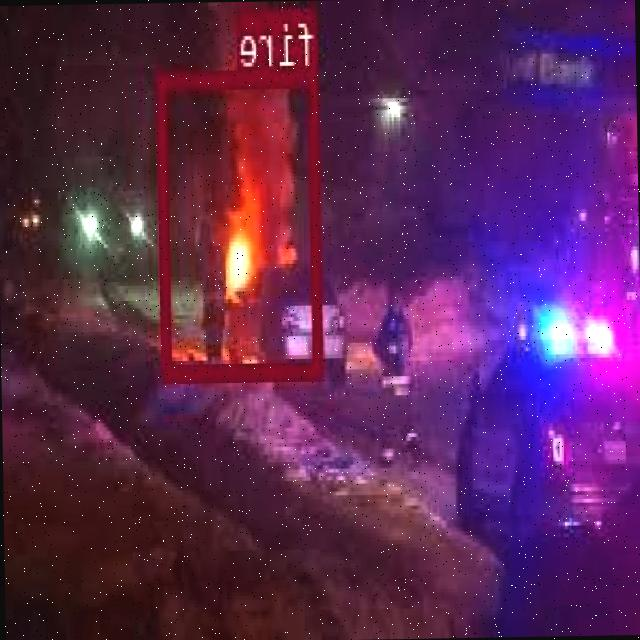fire: (158, 65, 325, 378)
